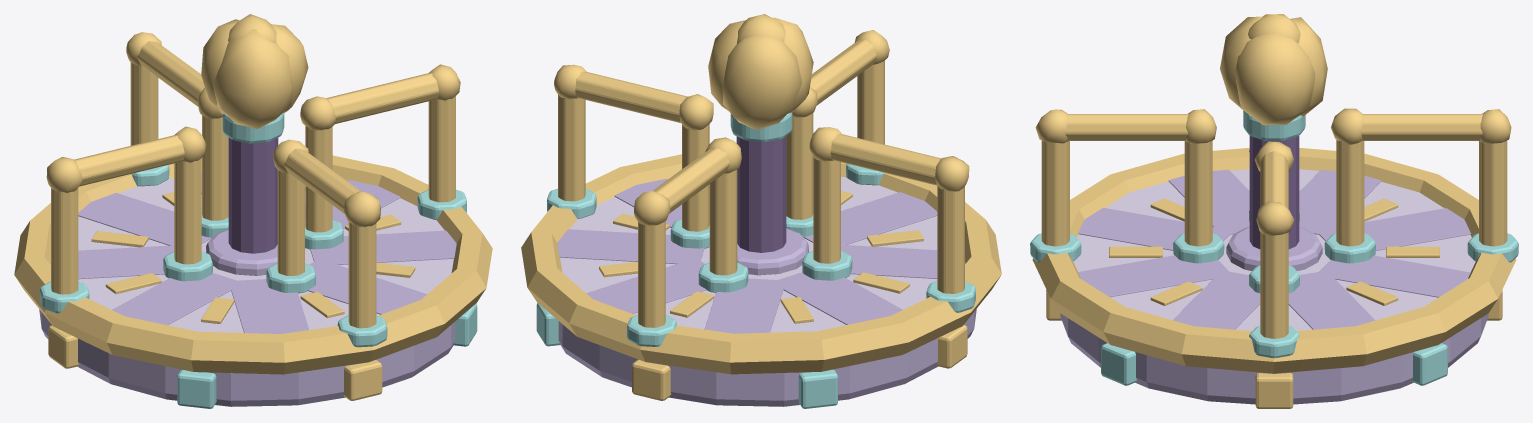
Rendered from lagoon_play_merry.glb.
3 views of the same model, side by side, from view 1: azimuth 30°, elevation 25°; view 2: azimuth 150°, elevation 25°; view 3: azimuth 270°, elevation 25° (orthographic).
Visible parts, largest first — view 1: lagoon_play_merry.001; view 2: lagoon_play_merry.001; view 3: lagoon_play_merry.001.
Boxes of the visible parts, bbox=[...] form: lagoon_play_merry.001: bbox=[14, 14, 492, 408]; lagoon_play_merry.001: bbox=[521, 14, 1001, 408]; lagoon_play_merry.001: bbox=[1030, 14, 1518, 408].
Size of the model in its own units: 6.7 by 4.6 by 6.7.
